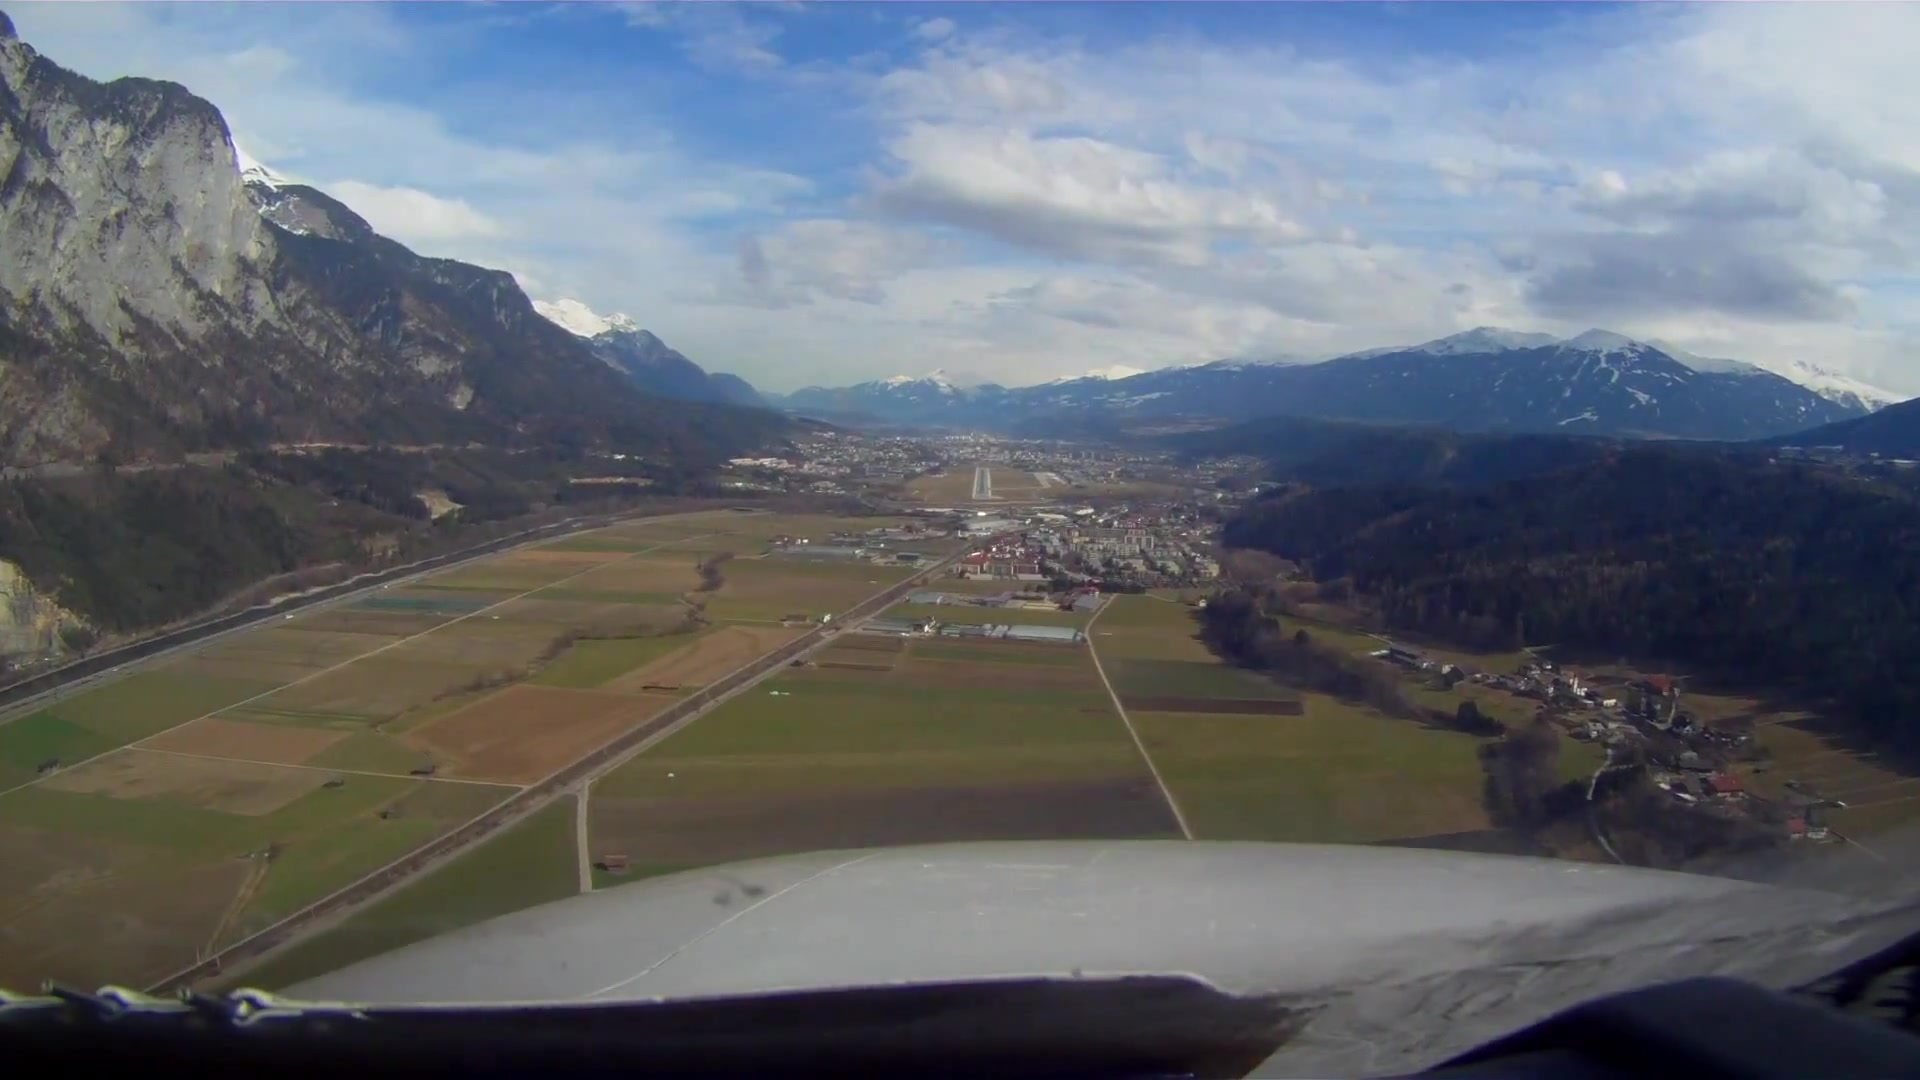runway: (971, 465, 992, 502)
